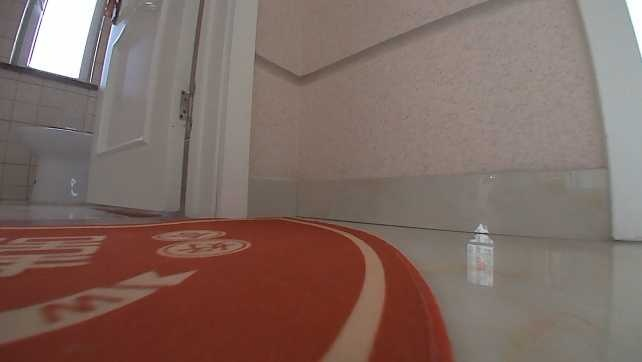blanket: (0, 216, 450, 360)
door_anno: (86, 0, 259, 218)
toilet: (15, 122, 94, 205)
